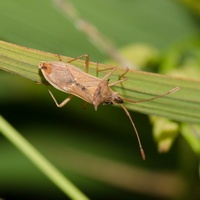insect: (39, 55, 179, 159)
